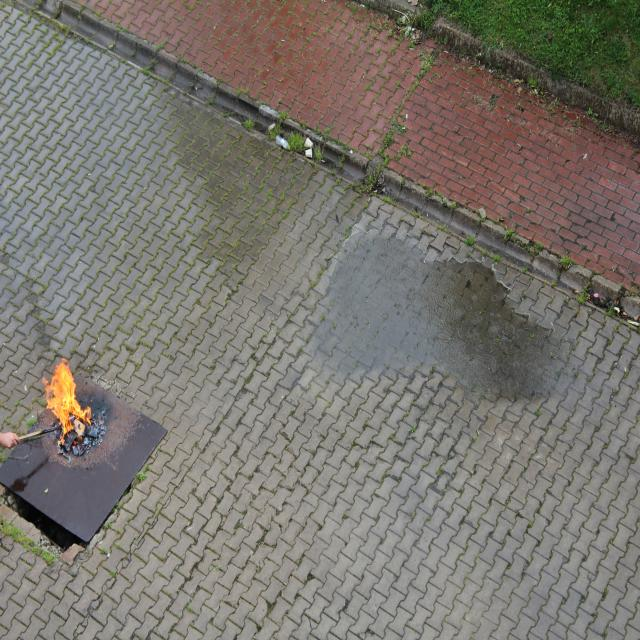fire: (41, 353, 94, 445)
